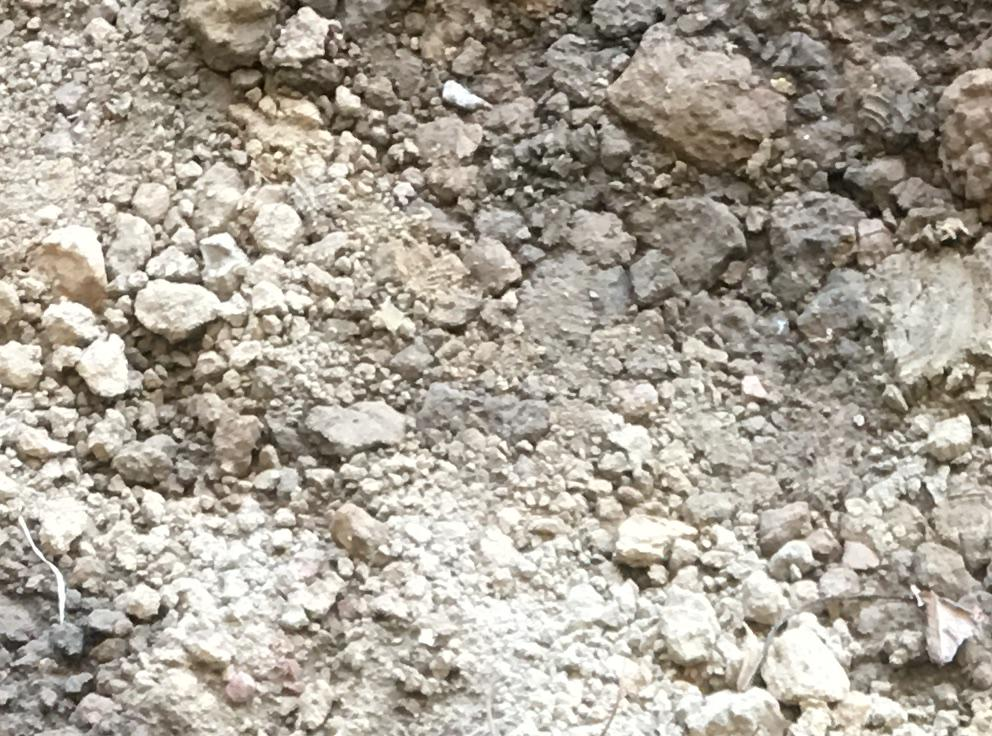block: (609, 24, 775, 172), (766, 192, 859, 302), (630, 193, 737, 283), (166, 1, 291, 67)
